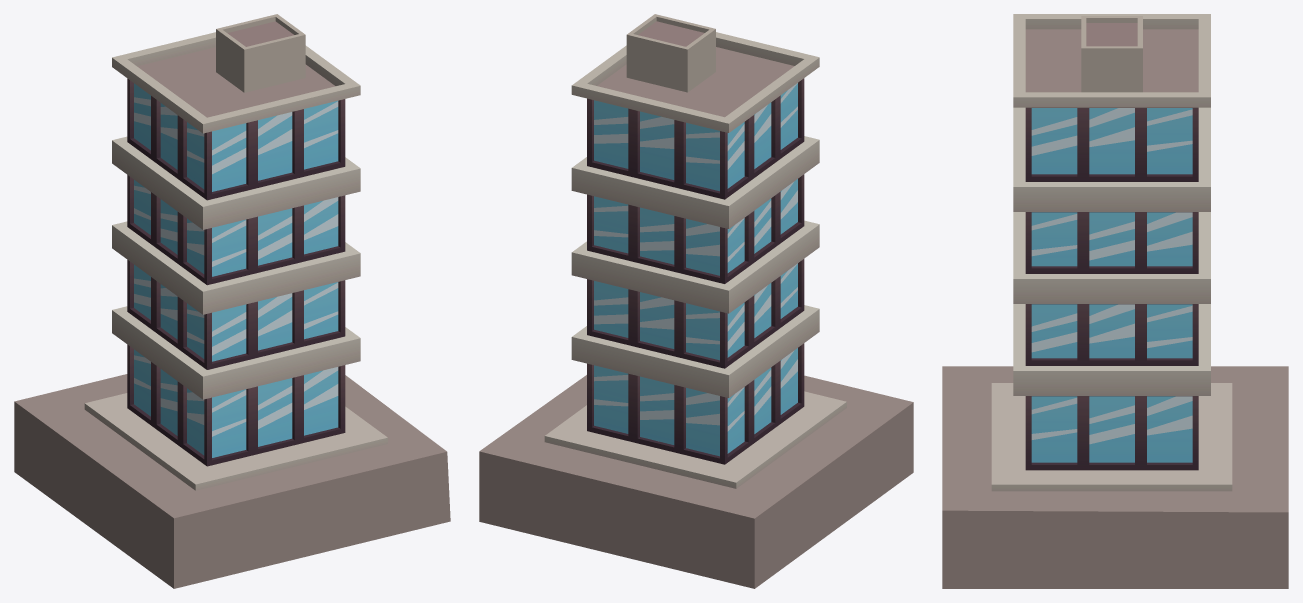
The model's file is Office.fbx.
3 views of the same model, side by side, from view 1: azimuth 30°, elevation 25°; view 2: azimuth 150°, elevation 25°; view 3: azimuth 270°, elevation 25° (orthographic). The views are drawn at different scales.
Visible parts, largest first — view 1: Cube.016; view 2: Cube.016; view 3: Cube.016.
Boxes of the visible parts, left/top/right/bottom form: Cube.016: left=14, top=14, right=450, bottom=588; Cube.016: left=479, top=14, right=913, bottom=588; Cube.016: left=942, top=14, right=1288, bottom=588.
Size of the model in its own units: 400 by 635 by 400.
